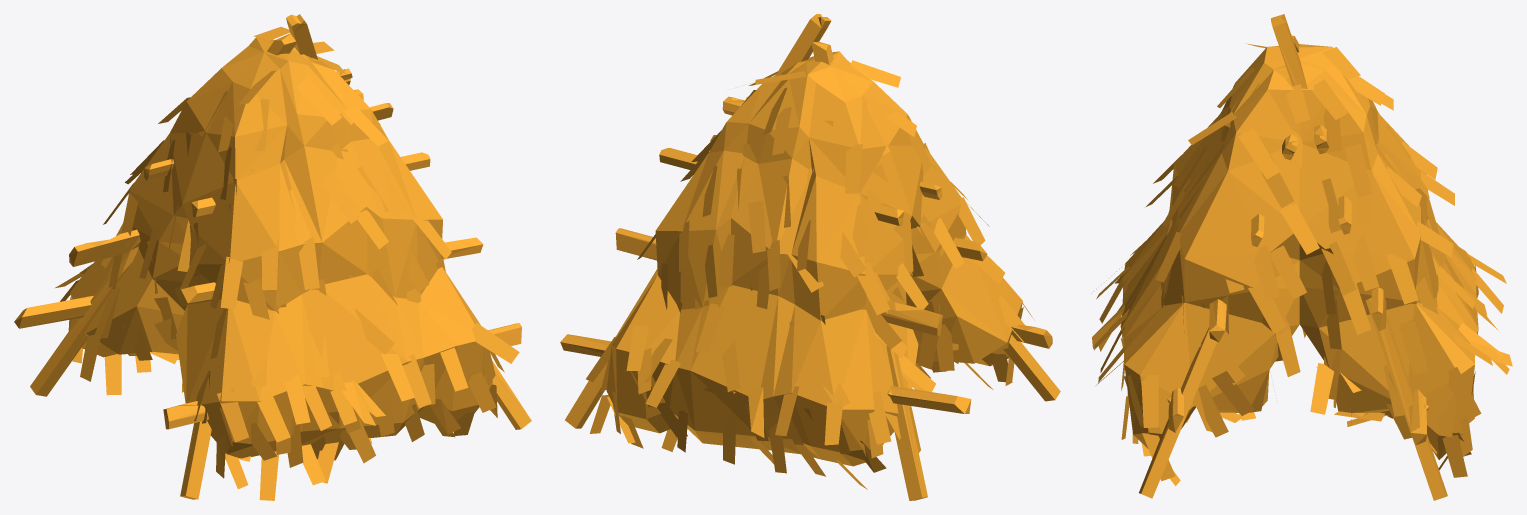
Rendered from SM_Hay_Drying_Rack_Triangle_D.fbx.
The picture shows the model from 3 angles, left to right: view 1: azimuth 30°, elevation 25°; view 2: azimuth 150°, elevation 25°; view 3: azimuth 270°, elevation 25°; orthographic projection.
Visible parts, largest first — view 1: hay-drying-rack-triangle-d; view 2: hay-drying-rack-triangle-d; view 3: hay-drying-rack-triangle-d.
Part boxes in pixels (left/top/right/bottom): hay-drying-rack-triangle-d: left=14, top=14, right=531, bottom=500; hay-drying-rack-triangle-d: left=560, top=14, right=1060, bottom=500; hay-drying-rack-triangle-d: left=1091, top=14, right=1512, bottom=500.
Size of the model in its own units: 1.88 by 1.83 by 1.7.
